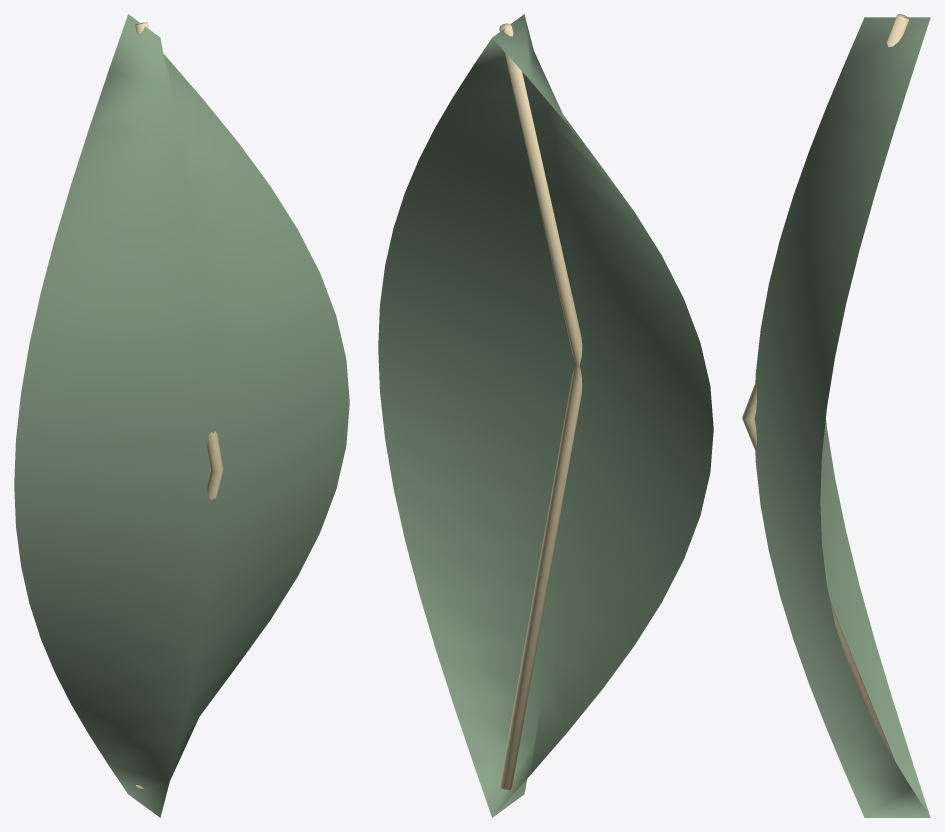
The model's file is botanical-leaf.glb.
The picture shows the model from 3 angles, left to right: view 1: azimuth 30°, elevation 25°; view 2: azimuth 150°, elevation 25°; view 3: azimuth 270°, elevation 25°; orthographic projection. The views are drawn at different scales.
Visible parts, largest first — view 1: leaf-0, vein-1; view 2: leaf-0, vein-1; view 3: leaf-0, vein-1.
Part boxes in pixels (x1=…): leaf-0: x1=14, y1=14, x2=349, y2=817; vein-1: x1=135, y1=22, x2=223, y2=788; leaf-0: x1=378, y1=14, x2=713, y2=817; vein-1: x1=499, y1=23, x2=582, y2=789; leaf-0: x1=754, y1=17, x2=930, y2=817; vein-1: x1=742, y1=14, x2=908, y2=760.
Bounding box in the file's own units: 0.36 × 0.8019 × 0.1707.
